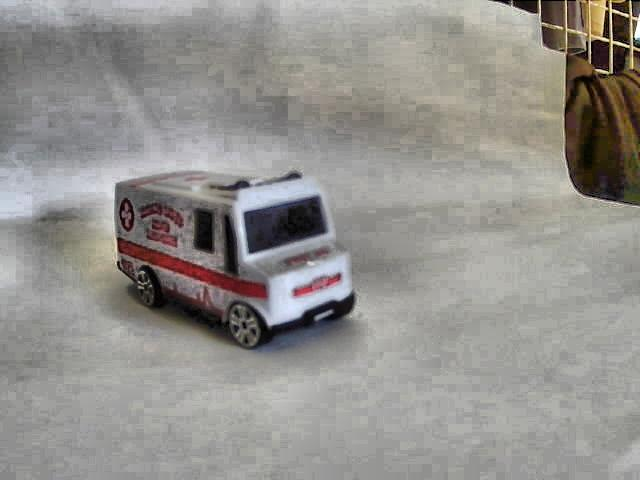ambulance: (113, 168, 354, 349)
